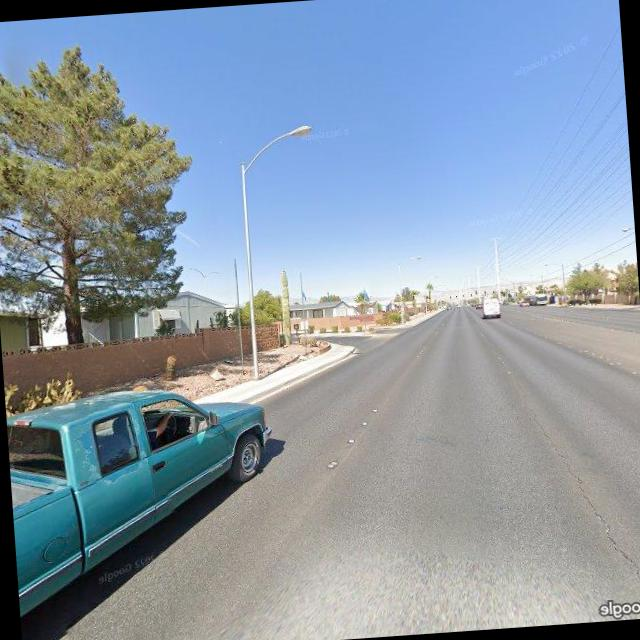pothole: (528, 403, 640, 597)
